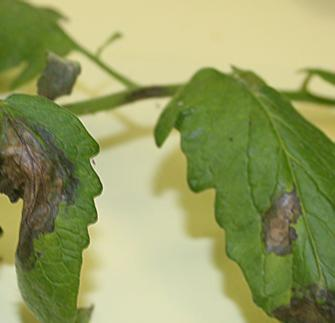Tomato leaf late blight: (158, 37, 335, 323), (0, 76, 101, 323)
